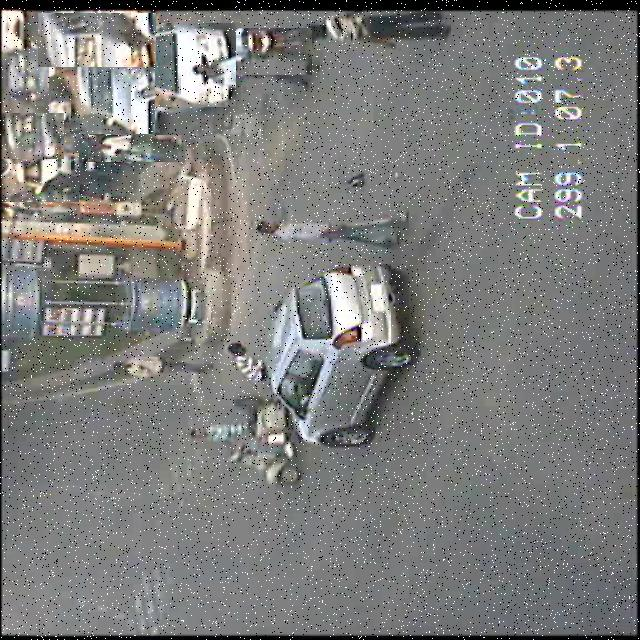Bike: (162, 390, 286, 478), (189, 27, 312, 74)
Car: (260, 266, 420, 458), (126, 22, 236, 106), (49, 57, 155, 133), (38, 12, 156, 66), (0, 152, 79, 201), (0, 112, 64, 158)
Person: (290, 6, 468, 49), (247, 203, 423, 243), (119, 344, 218, 379), (88, 134, 185, 161)
